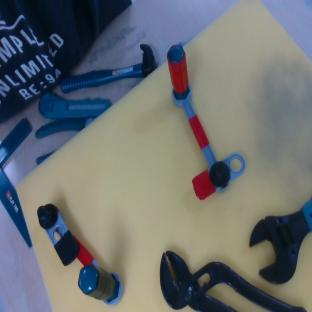non_pass: (21, 198, 131, 312)
pass: (153, 35, 252, 201)
